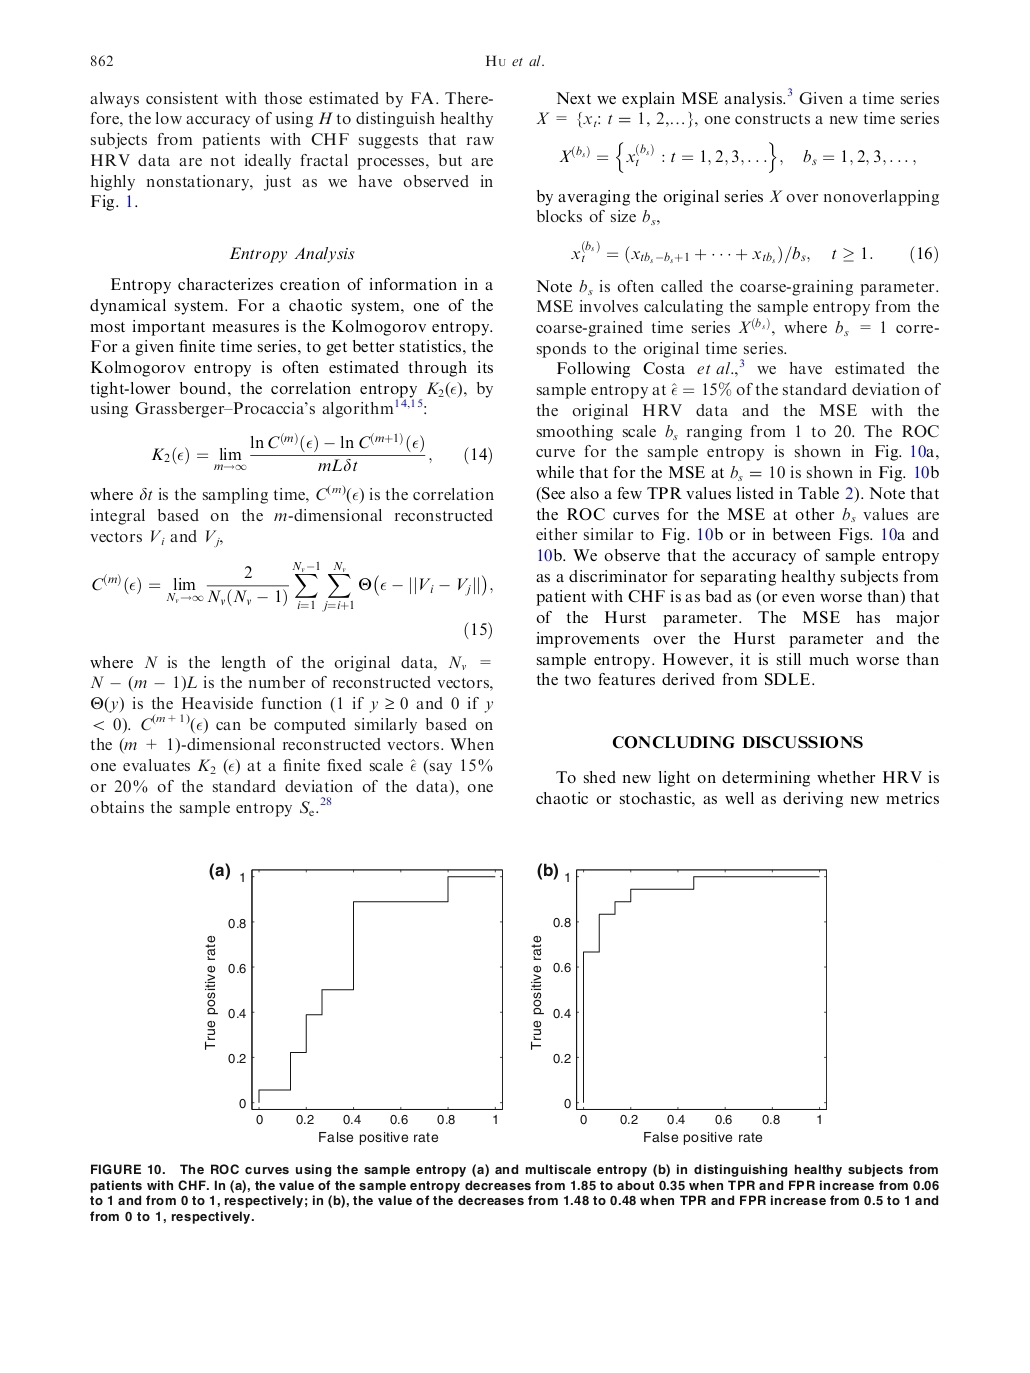figure: (204, 863, 502, 1144), (531, 863, 826, 1144)
formula: (92, 560, 492, 612), (151, 432, 491, 472), (559, 141, 915, 173), (571, 240, 937, 264)
